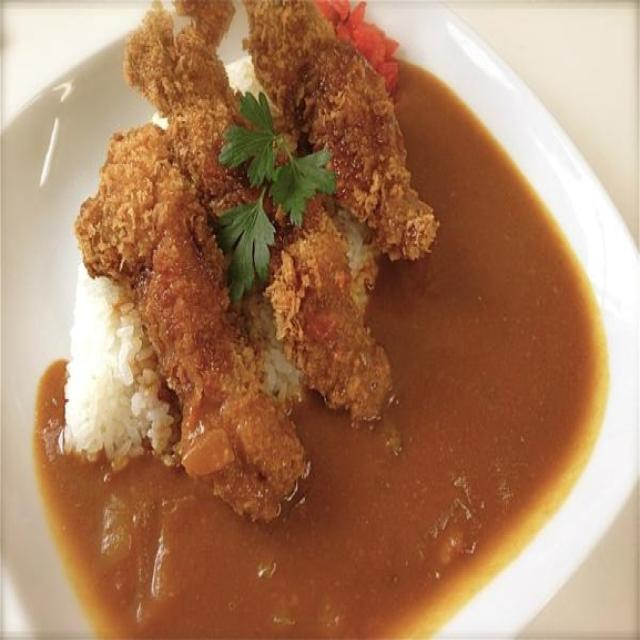鸡肉料理 含炸鸡: (28, 7, 491, 528)
